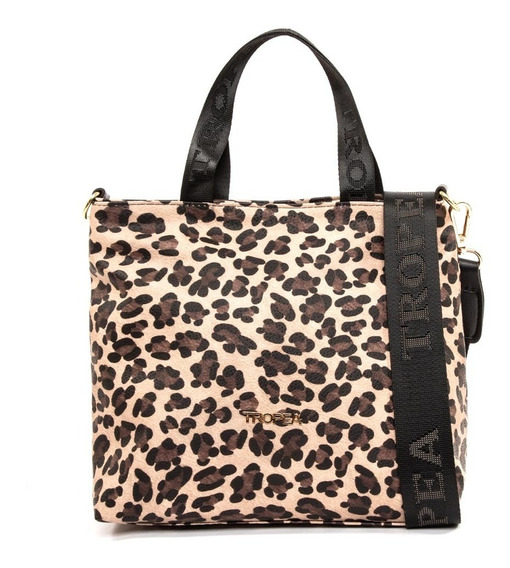cartera: (86, 27, 485, 532)
